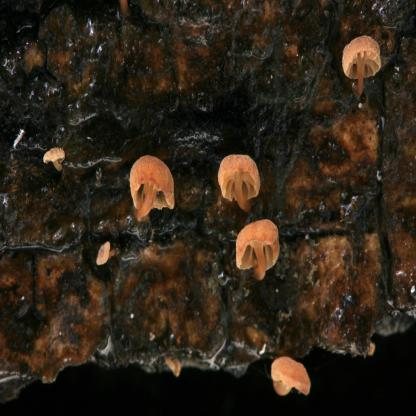Mushroom: (128, 155, 176, 225), (346, 28, 389, 93), (217, 154, 262, 214), (234, 221, 280, 279), (271, 353, 312, 400), (94, 241, 118, 266), (45, 150, 70, 170), (164, 354, 181, 379)
